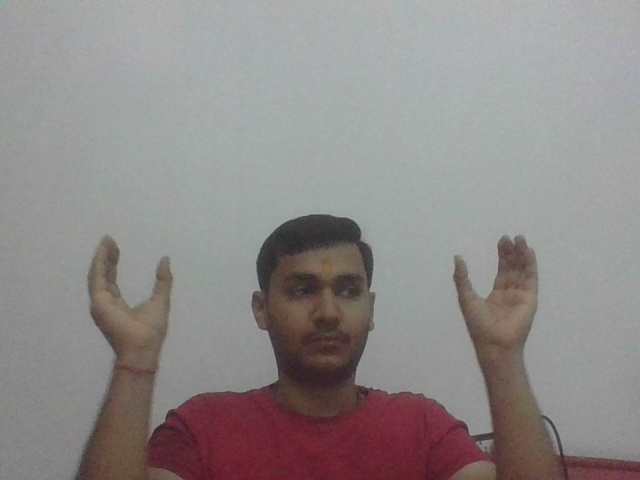U: (444, 227, 543, 360), (80, 233, 185, 355)
